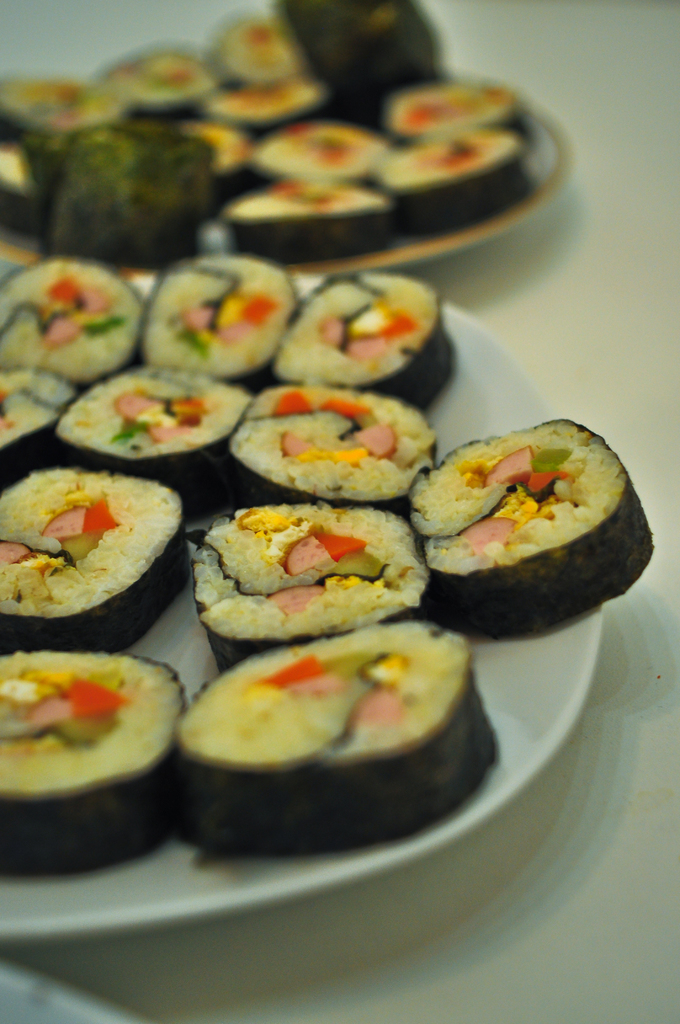sushi: (0, 259, 652, 886), (0, 1, 531, 267), (188, 628, 489, 844), (197, 499, 421, 631)
